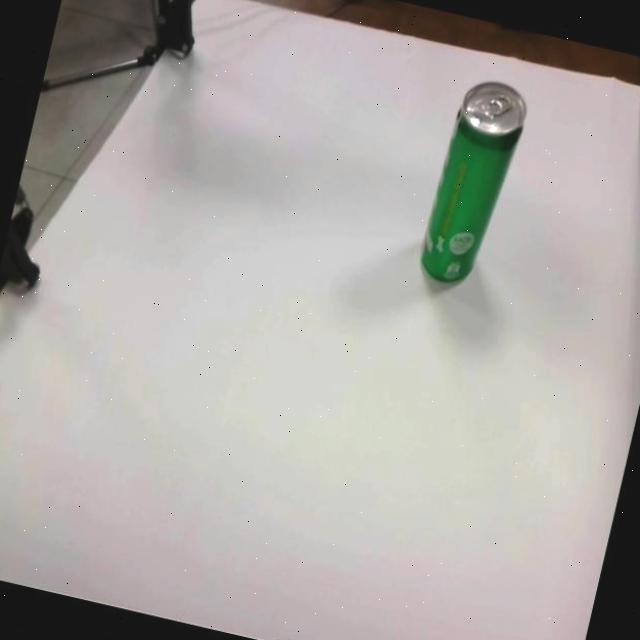debris: (415, 72, 533, 294)
